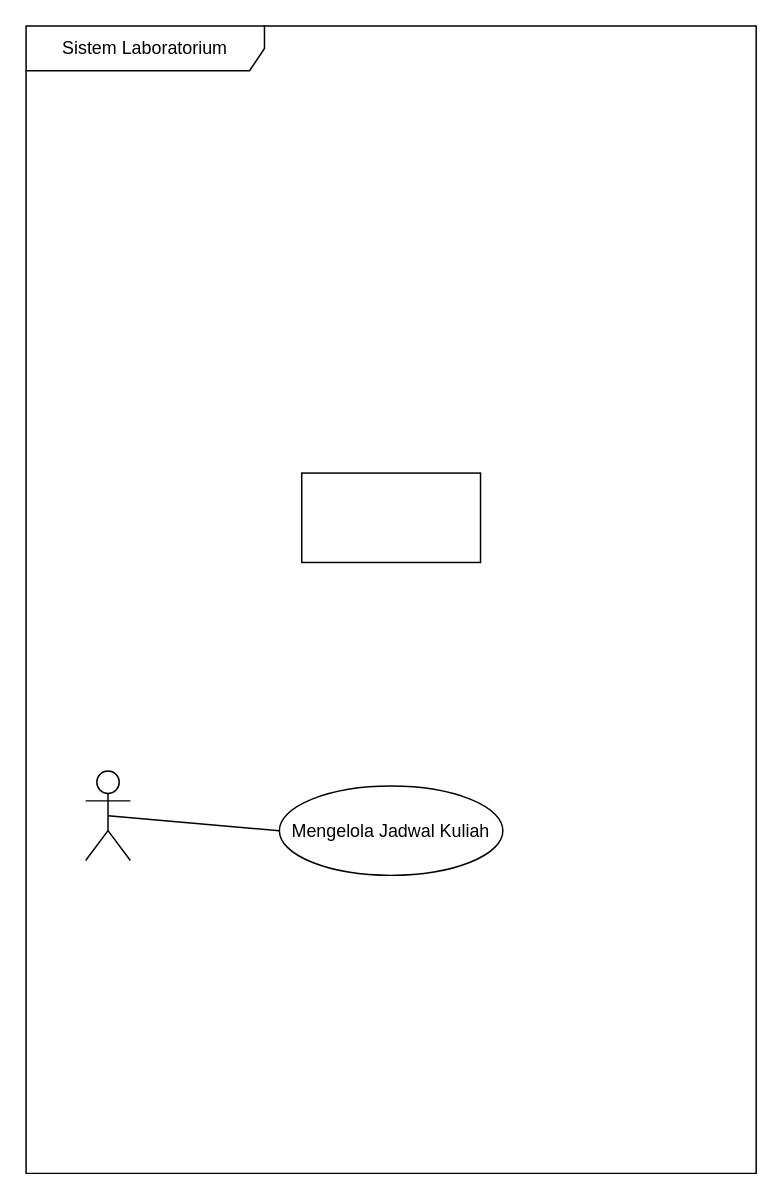
This 782x1199 diagram has some shape labels left out. Here are the shapes that lost their labels. From the top down, the box of each, then its label:
(300, 472, 481, 562): Lihat Jadwal Kuliah
(84, 770, 130, 860): Mahasiswa
